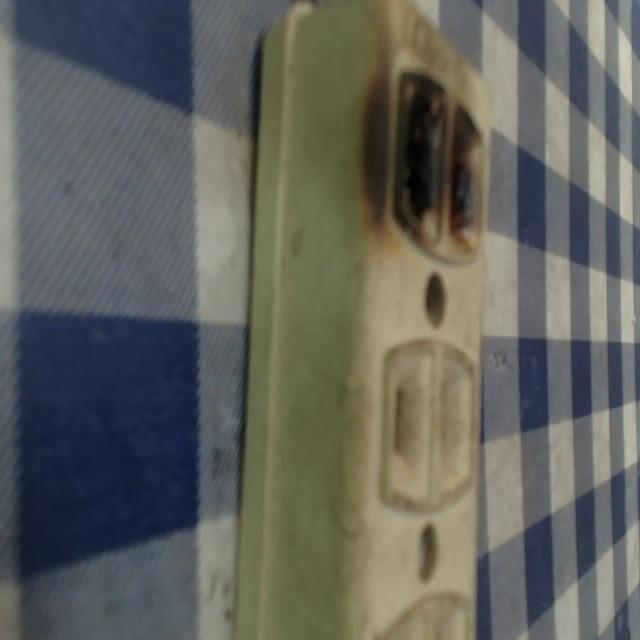-: (375, 50, 504, 254)
